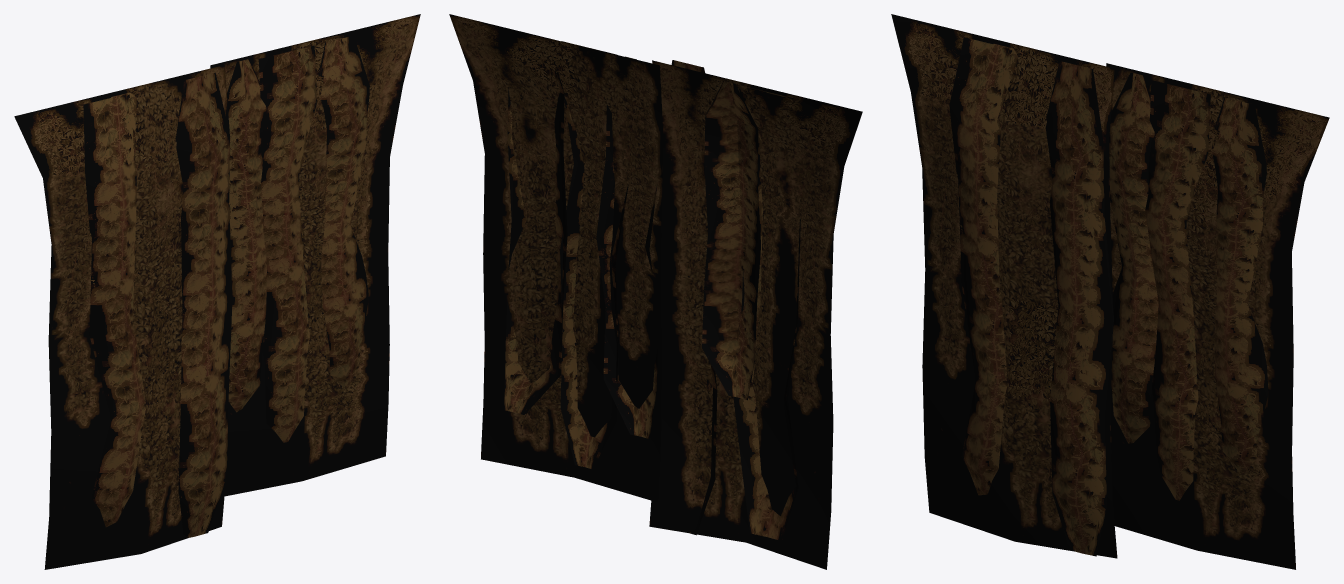
The model's file is detail_ivy_01.fbx.
3 views of the same model, side by side, from view 1: azimuth 30°, elevation 25°; view 2: azimuth 150°, elevation 25°; view 3: azimuth 330°, elevation 25° (orthographic). The views are drawn at different scales.
Parts seen in each view (by area): view 1: Mesh; view 2: Mesh; view 3: Mesh.
Boxes of the visible parts, x1,y1,x2,y2 form: Mesh: [14, 14, 420, 569]; Mesh: [449, 14, 862, 569]; Mesh: [891, 14, 1329, 569].
Size of the model in its own units: 925 by 1000 by 84.03.
1 material, 1 textured.
